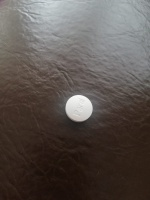Parol: (64, 94, 94, 124)
